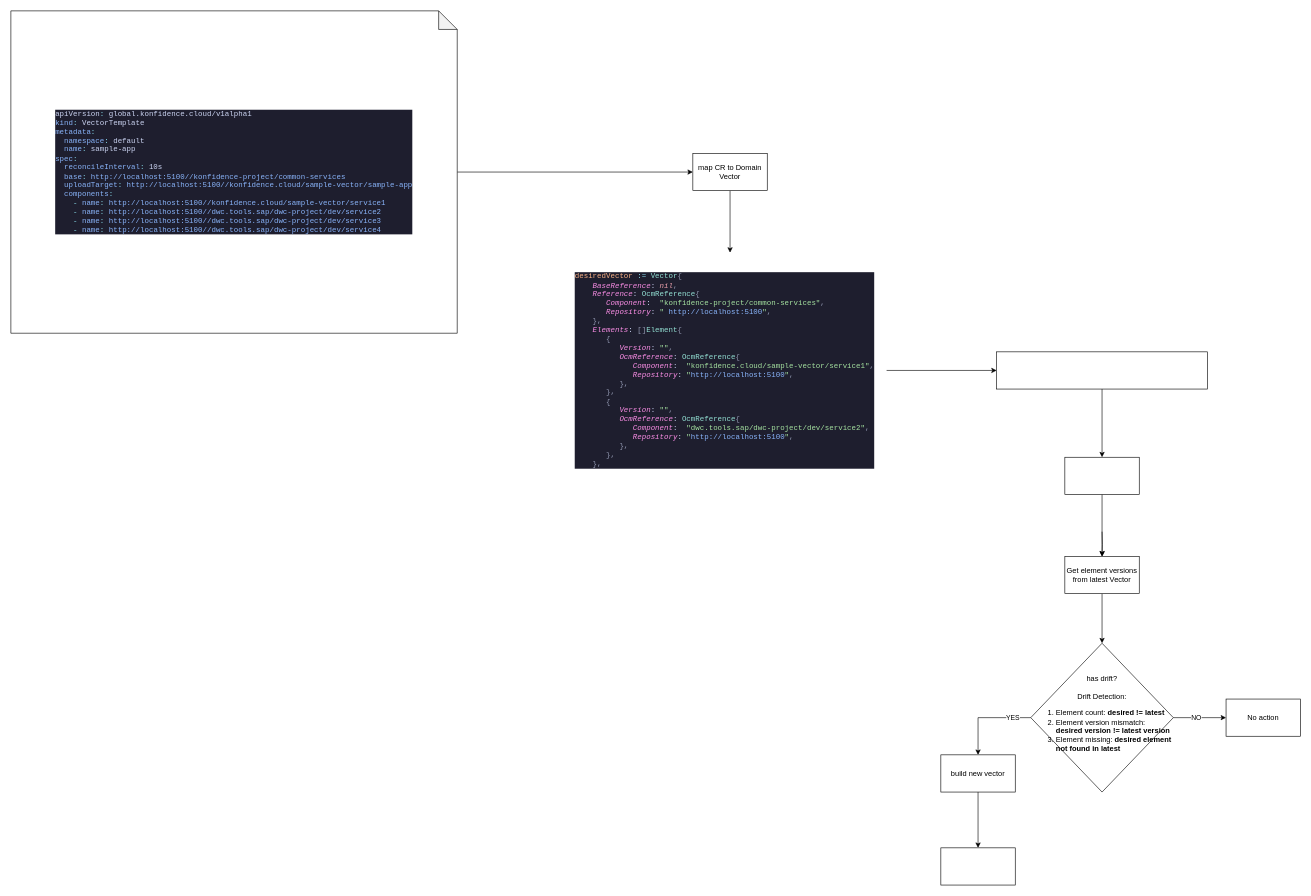
This 1311x896 diagram has some shape labels left out. Here are the shapes that lost their labels. From the top down, the centre of each, then its label:
(1101,370): detectAndActOnDrift ( ctx , desiredVector )
(1101,475): Get latest element versions from desired Vector
(977,866): transfer to OCI
